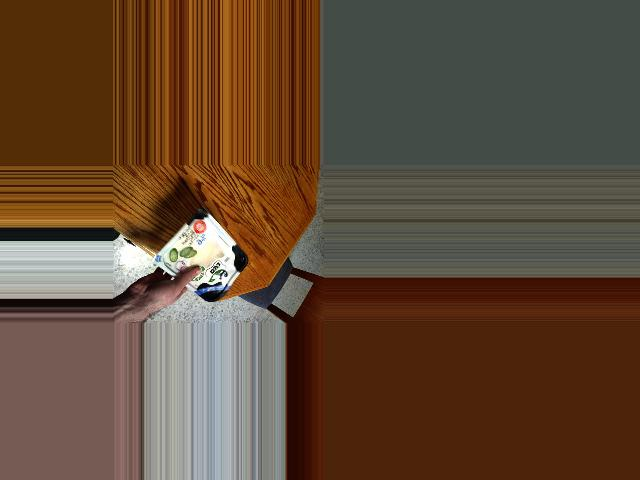cheese: (181, 217, 236, 297)
